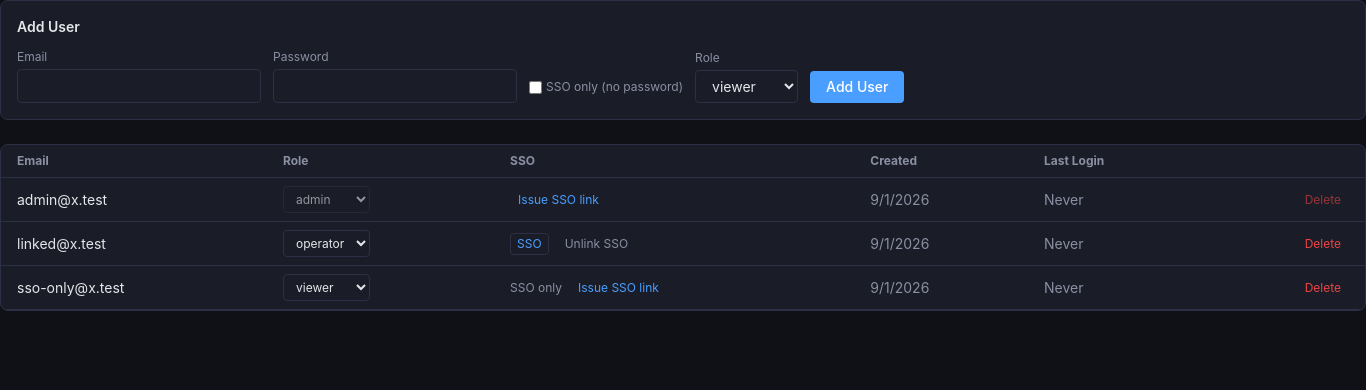
Test: UsersPage SSO controls › shows the server error when a grant cannot be issued
Expected: the text "sso-only@x.test" is shown, [1,266,267,310]
Click the button with test id "user-sso-grant" in the row of "sso-only@x.test": (618, 288) [570,276,667,300]
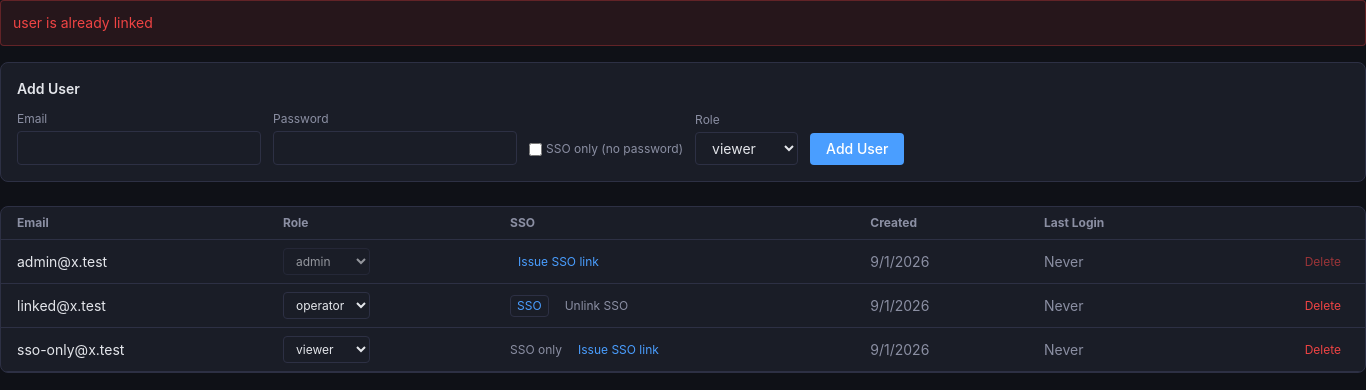
Now the text "user is already linked" is shown, box [0,0,1365,46]
